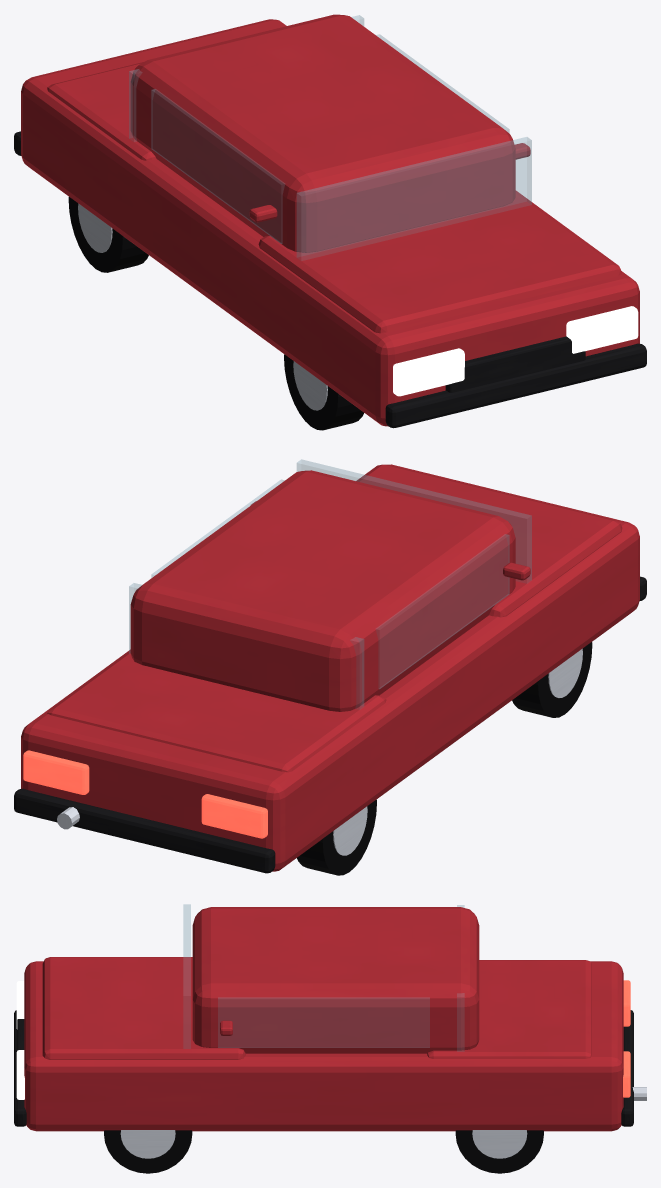
Rendered from car_sedan.glb.
3 renders of one model, top to bottom at view 1: azimuth 30°, elevation 25°; view 2: azimuth 150°, elevation 25°; view 3: azimuth 270°, elevation 25°, orthographic. The views are drawn at different scales.
Visible parts, largest first — view 1: car_sedan_cabin, car_sedan_body_lower, car_sedan_bonnet, car_sedan_glass_front, car_sedan_glass_side_l, car_sedan_bumper_front, car_sedan_boot, car_sedan_grille, car_sedan_headlight_l, car_sedan_headlight_r, tyre_fl, tyre_rl (+3 smaller); view 2: car_sedan_cabin, car_sedan_body_lower, car_sedan_boot, car_sedan_bonnet, car_sedan_glass_side_l, car_sedan_bumper_rear, car_sedan_glass_front, car_sedan_taillight_l, car_sedan_taillight_r, tyre_rl, tyre_fl, hub_fl (+2 smaller); view 3: car_sedan_body_lower, car_sedan_cabin, car_sedan_bonnet, car_sedan_boot, car_sedan_glass_side_r, tyre_fr, tyre_rr, hub_fr, hub_rr, car_sedan_glass_front, car_sedan_bumper_rear, car_sedan_bumper_front (+2 smaller).
Part boxes in pixels (box(x1,y1,x2,y2)): car_sedan_cabin: box(130, 14, 515, 252); car_sedan_body_lower: box(21, 19, 639, 426); car_sedan_bonnet: box(258, 191, 621, 333); car_sedan_glass_front: box(297, 137, 531, 260); car_sedan_glass_side_l: box(151, 89, 284, 243); car_sedan_bumper_front: box(385, 343, 646, 428); car_sedan_boot: box(47, 62, 156, 160); car_sedan_grille: box(445, 336, 585, 392); car_sedan_headlight_l: box(393, 348, 464, 396); car_sedan_headlight_r: box(566, 306, 638, 353); tyre_fl: box(284, 354, 363, 430); tyre_rl: box(68, 197, 148, 272); car_sedan_cabin: box(130, 470, 515, 711); car_sedan_body_lower: box(21, 464, 639, 871); car_sedan_boot: box(47, 650, 386, 772); car_sedan_bonnet: box(356, 464, 622, 617); car_sedan_glass_side_l: box(376, 534, 509, 688); car_sedan_bumper_rear: box(14, 788, 275, 873); car_sedan_glass_front: box(297, 459, 531, 582); car_sedan_taillight_l: box(201, 794, 267, 838); car_sedan_taillight_r: box(23, 750, 89, 794); tyre_rl: box(297, 799, 376, 875); tyre_fl: box(512, 642, 592, 717); hub_fl: box(548, 648, 582, 697); car_sedan_body_lower: box(24, 961, 623, 1131); car_sedan_cabin: box(192, 907, 479, 1053); car_sedan_bonnet: box(42, 957, 245, 1059); car_sedan_boot: box(427, 960, 591, 1058); car_sedan_glass_side_r: box(218, 998, 429, 1047); tyre_fr: box(104, 1130, 192, 1173); tyre_rr: box(455, 1130, 543, 1173); hub_fr: box(120, 1130, 175, 1158); hub_rr: box(472, 1130, 527, 1158); car_sedan_glass_front: box(183, 904, 190, 1048); car_sedan_bumper_rear: box(621, 1010, 633, 1126); car_sedan_bumper_front: box(14, 1010, 26, 1126).
Bounding box in the file's own units: 1.99 × 1.5 × 4.86.
Materials: 34 (34 with a texture image).
